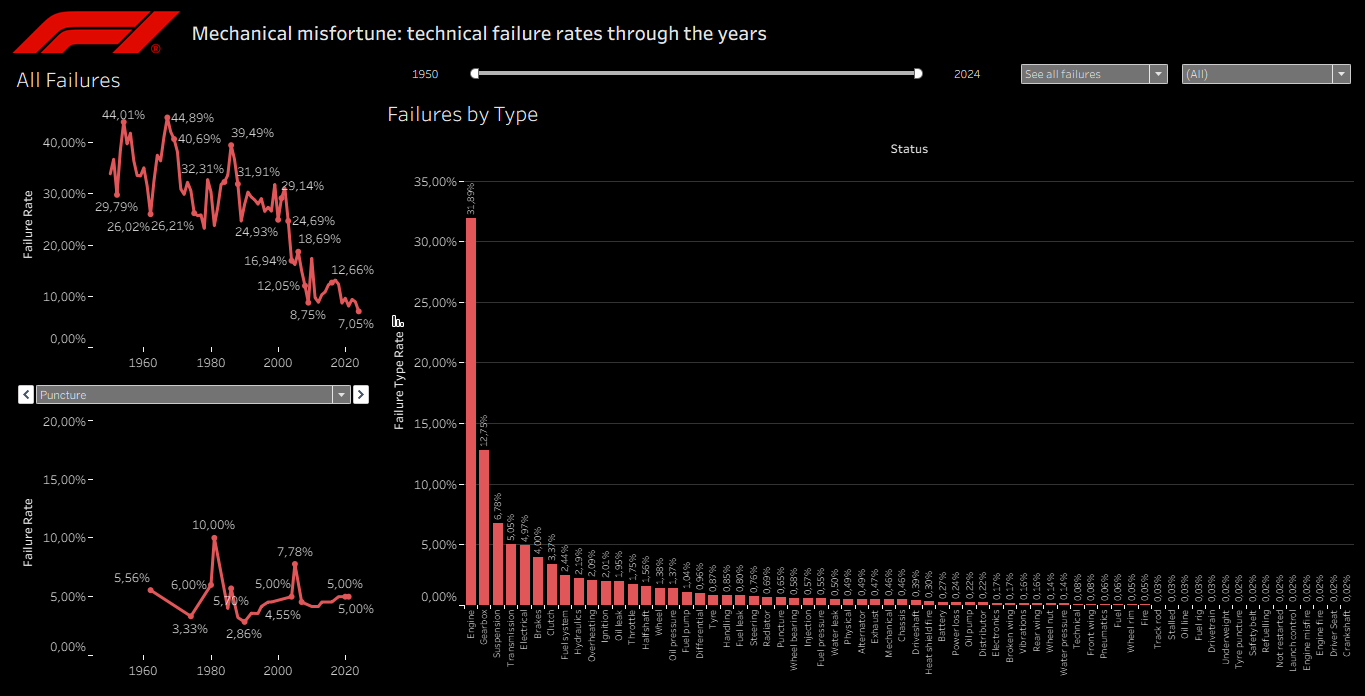

The page's visual inventory and layout, read from the dashboard file:
{"tool":"tableau","page":{"name":"Mechanical failures (Rates)","canvas":[1000,1000],"units":"permille","ordinal":3},"visuals":[{"type":"image","param":"D:/Repos/F1_Stats_Tableau/img/F1_Logo.png","box":[7,14.3,155.4,89.3]},{"type":"text","box":[162.4,14.3,830.6,89.3]},{"type":"worksheet","title":"All Failures (Rate)","mark":"Line","rows":["Calculation_1014998815272411139"],"cols":["Calculation_569142452756807681"],"box":[7,103.6,325.7,455.4]},{"type":"filter","title":"Mechanical problems by year (Rate)","param":"[federated.1gciksz1by2j2j1de8jam11lnjzv].[none:Calculation_569142452756807681:qk","box":[332.7,103.6,357.8,60.7]},{"type":"parameter","param":"[Parameters].[statusId (status.csv) Parameter]","box":[690.6,103.6,141.3,60.7]},{"type":"filter","title":"All Failures (Rate)","param":"[federated.1gciksz1by2j2j1de8jam11lnjzv].[none:name (constructors.csv):nk]","box":[831.9,103.6,160.7,60.7]},{"type":"worksheet","title":"Mechanical problems by year (Rate)","mark":"Bar","rows":["Calculation_1014998815272411139"],"cols":["status"],"box":[332.7,164.3,659.8,821.4]},{"type":"currpage","title":"Selected Failure (Rate)","box":[7,558.9,325.7,48.2]},{"type":"worksheet","title":"Selected Failure (Rate)","mark":"Line","rows":["Calculation_1014998815272411139"],"cols":["Calculation_569142452756807681"],"box":[7,607.1,325.7,378.6]}]}

Visuals, with their boxes on the dashboard's canvas, which has no fixed pixel size, in thousandths of its width and height (x1, y1, x2, y2). These are canvas units, not pixel positions in the 1365x696 screenshot, which may show the page scaled, cropped or inside an application window:
image: [left=7, top=14, right=162, bottom=104]
text: [left=162, top=14, right=993, bottom=104]
"All Failures (Rate)" worksheet (Line marks): [left=7, top=104, right=333, bottom=559]
"Mechanical problems by year (Rate)" filter: [left=333, top=104, right=690, bottom=164]
parameter: [left=691, top=104, right=832, bottom=164]
"All Failures (Rate)" filter: [left=832, top=104, right=993, bottom=164]
"Mechanical problems by year (Rate)" worksheet (Bar marks): [left=333, top=164, right=992, bottom=986]
"Selected Failure (Rate)" currpage: [left=7, top=559, right=333, bottom=607]
"Selected Failure (Rate)" worksheet (Line marks): [left=7, top=607, right=333, bottom=986]
